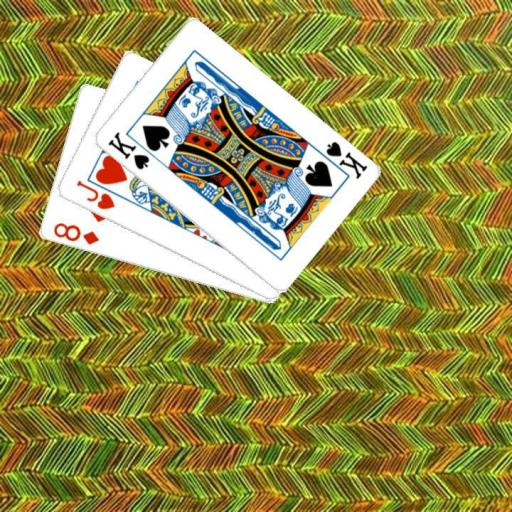8D: (50, 219, 101, 247)
JH: (72, 177, 116, 211)
KS: (313, 138, 368, 181), (104, 129, 151, 171)
